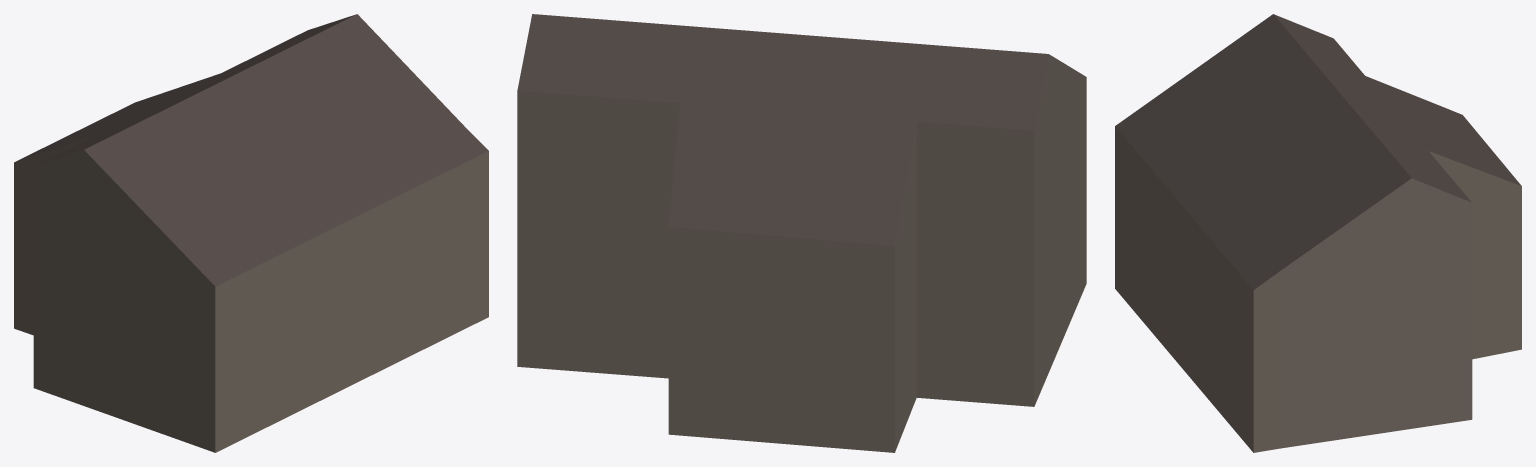
3 renders of one model, left to right at view 1: azimuth 30°, elevation 25°; view 2: azimuth 150°, elevation 25°; view 3: azimuth 270°, elevation 25°, orthographic. The views are drawn at different scales.
Parts seen in each view (by area): view 1: HP-w1198645068; view 2: HP-w1198645068; view 3: HP-w1198645068.
Part boxes in pixels (left/top/right/bottom): HP-w1198645068: left=14, top=14, right=488, bottom=452; HP-w1198645068: left=517, top=14, right=1086, bottom=452; HP-w1198645068: left=1115, top=14, right=1521, bottom=452.
Size of the model in its own units: 15.65 by 9.25 by 13.62.
